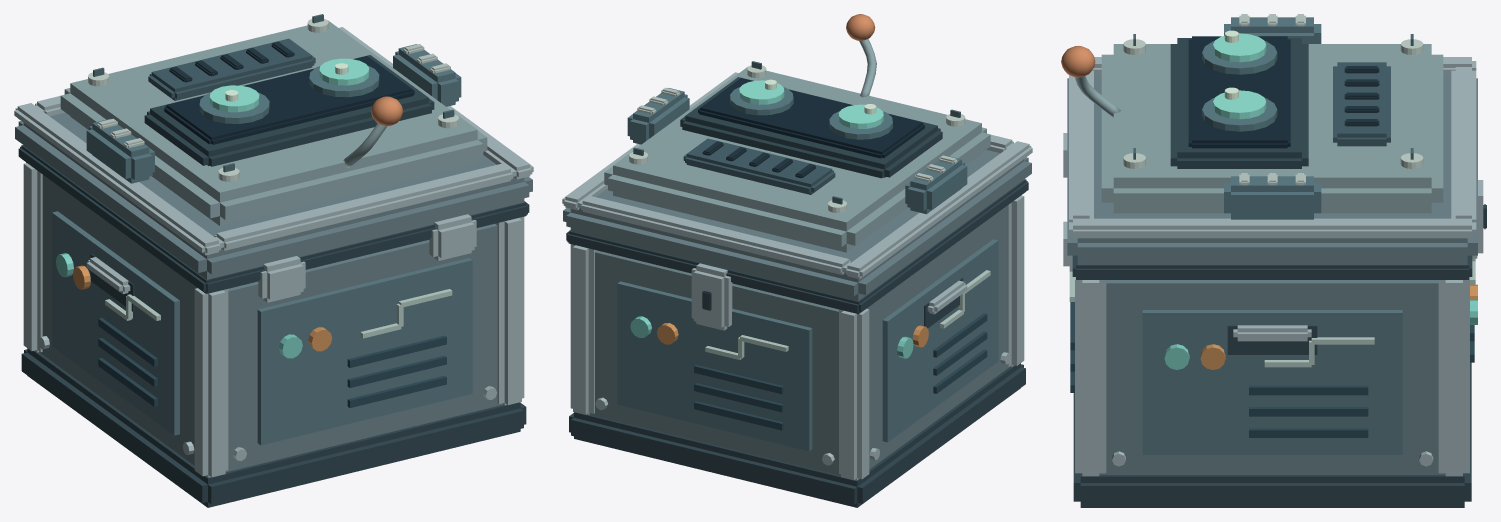
Rendered from crate_robo.fbx.
3 views of the same model, side by side, from view 1: azimuth 30°, elevation 25°; view 2: azimuth 150°, elevation 25°; view 3: azimuth 270°, elevation 25° (orthographic). The views are drawn at different scales.
Visible parts, largest first — view 1: crate_robo_caixa, crate_robo_caixa_neon; view 2: crate_robo_caixa, crate_robo_caixa_neon; view 3: crate_robo_caixa, crate_robo_caixa_neon.
Boxes of the visible parts, x1,y1,x2,y2 form: crate_robo_caixa: (14, 14, 533, 507); crate_robo_caixa_neon: (209, 58, 369, 112); crate_robo_caixa: (562, 14, 1032, 507); crate_robo_caixa_neon: (739, 80, 883, 128); crate_robo_caixa: (1061, 14, 1486, 507); crate_robo_caixa_neon: (1213, 33, 1266, 119).
Bounding box in the file's own units: 2.68 × 2.75 × 2.72.
1 material, 1 textured.
